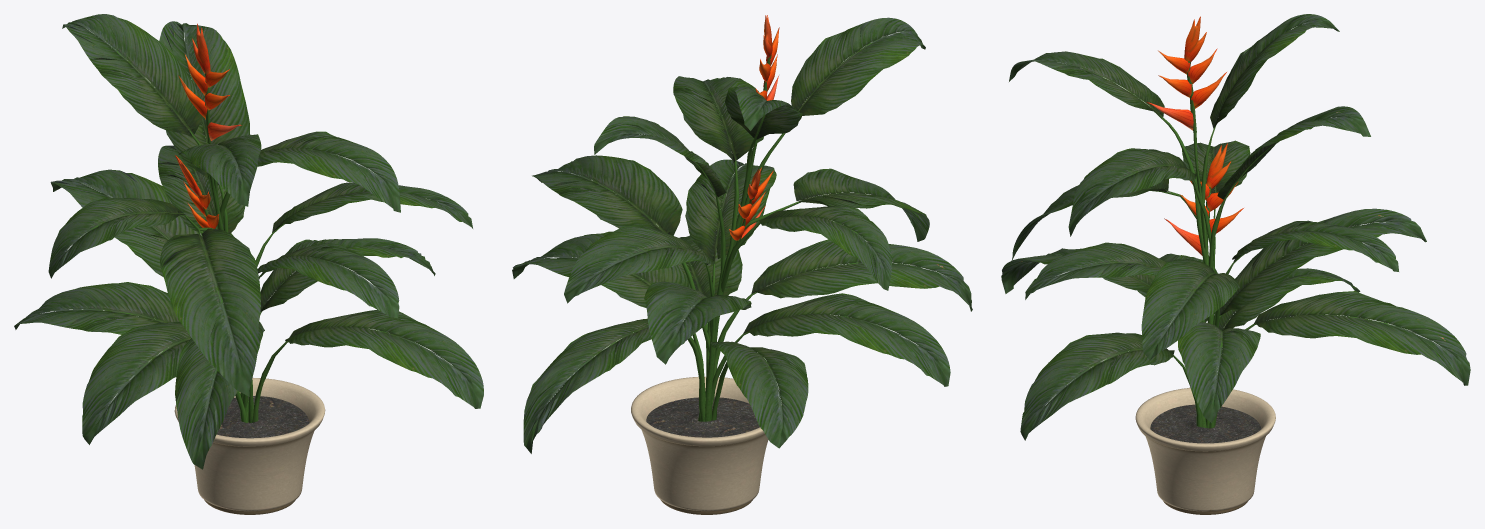
Rendered from plant_29.glb.
3 views of the same model, side by side, from view 1: azimuth 30°, elevation 25°; view 2: azimuth 150°, elevation 25°; view 3: azimuth 270°, elevation 25° (orthographic). The views are drawn at different scales.
Visible parts, largest first — view 1: Plants_VOL02_16; view 2: Plants_VOL02_16; view 3: Plants_VOL02_16.
Part boxes in pixels (x1=…): Plants_VOL02_16: x1=14, y1=14, x2=483, y2=514; Plants_VOL02_16: x1=512, y1=15, x2=972, y2=514; Plants_VOL02_16: x1=1001, y1=14, x2=1470, y2=514.
Bounding box in the file's own units: 0.6243 × 0.7345 × 0.6863.
1 material, 1 textured.
